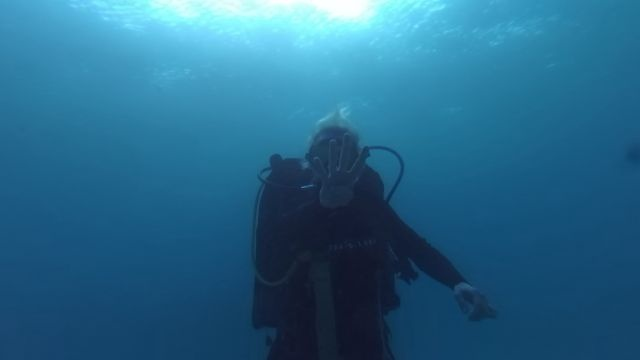Diver: (242, 118, 498, 358)
Hand: (300, 132, 385, 217), (442, 278, 498, 326)
